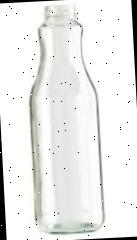glass: (22, 4, 108, 237)
